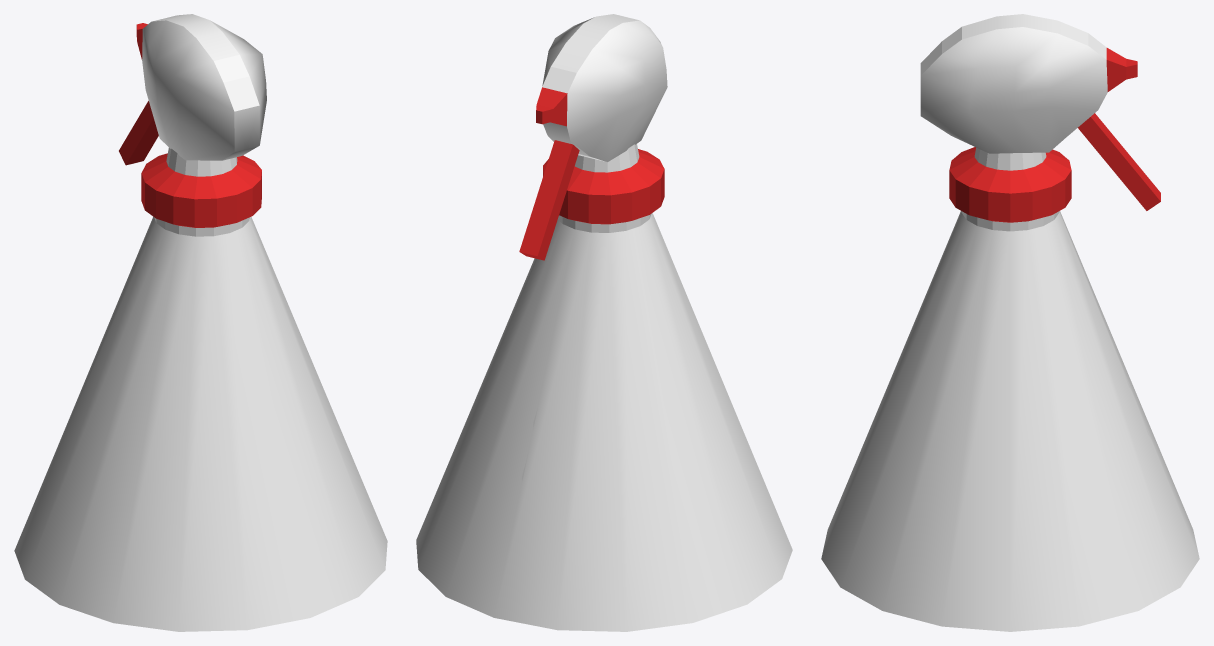
The model's file is Pulverizador.FBX.
3 views of the same model, side by side, from view 1: azimuth 30°, elevation 25°; view 2: azimuth 150°, elevation 25°; view 3: azimuth 270°, elevation 25° (orthographic).
Parts seen in each view (by area): view 1: Cone001, Box002, Box001; view 2: Cone001, Box002, Box001; view 3: Cone001, Box002, Box001.
Boxes of the visible parts, left/top/right/bottom form: Cone001: left=14, top=148, right=387, bottom=631; Box002: left=136, top=14, right=266, bottom=160; Box001: left=119, top=101, right=158, bottom=165; Cone001: left=416, top=144, right=792, bottom=631; Box002: left=536, top=14, right=667, bottom=162; Box001: left=519, top=140, right=579, bottom=260; Cone001: left=821, top=147, right=1199, bottom=631; Box002: left=920, top=14, right=1137, bottom=153; Box001: left=1078, top=113, right=1160, bottom=210.
Size of the model in its own units: 38.35 by 59.69 by 38.52.
Materials: 3 (3 with a texture image).
